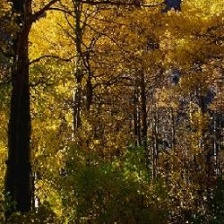neutral: (1, 2, 222, 221)
